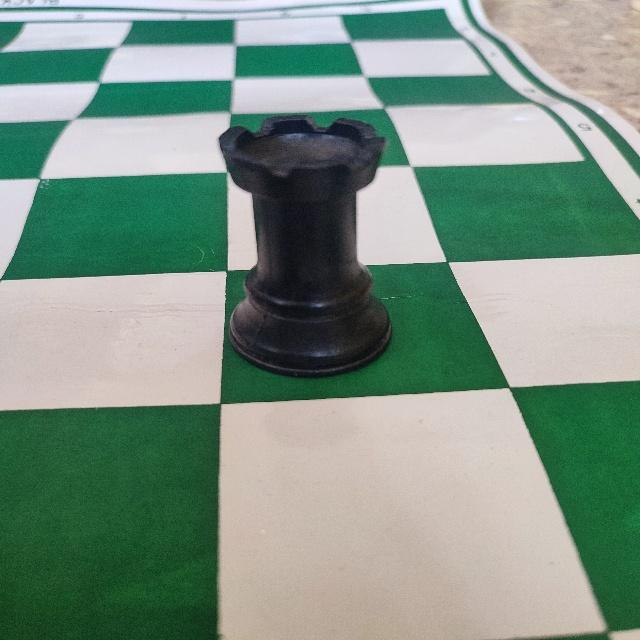Rook: (216, 108, 395, 378)
